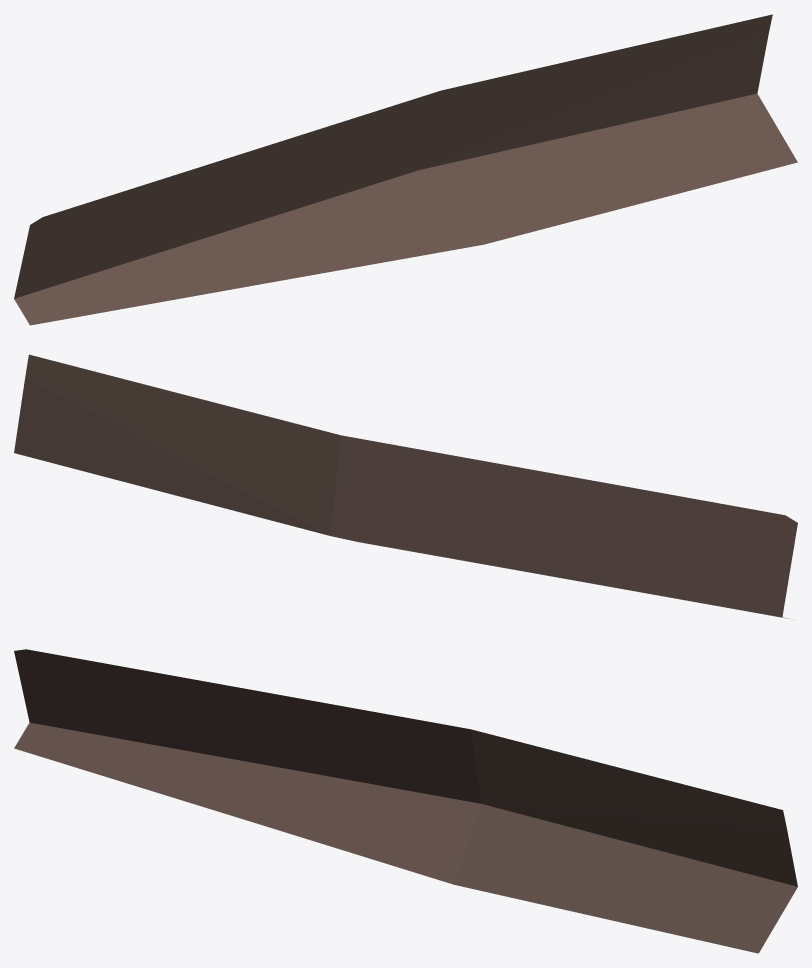
The model's file is cell_119.obj.
3 views of the same model, one above another, from view 1: azimuth 30°, elevation 25°; view 2: azimuth 150°, elevation 25°; view 3: azimuth 330°, elevation 25° (orthographic). The views are drawn at different scales.
Size of the model in its own units: 1 by 0.1682 by 0.1052.
